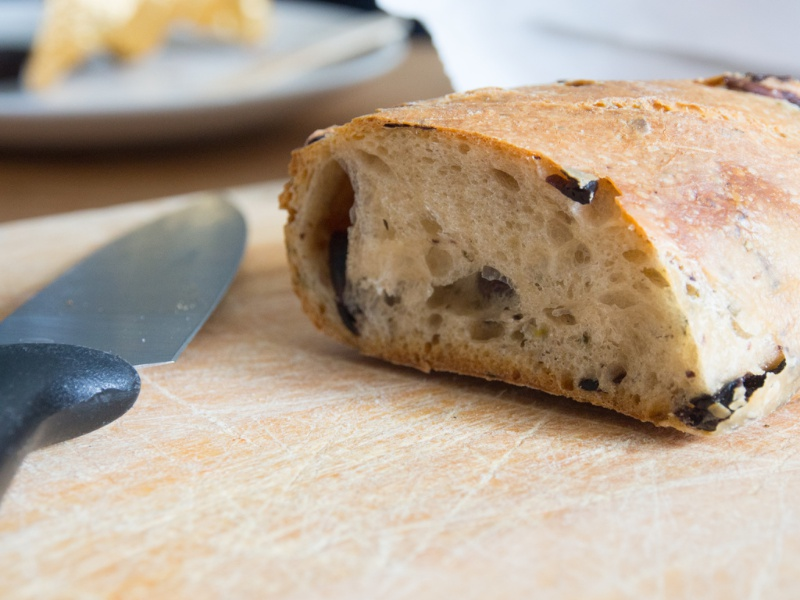knife: (1, 194, 250, 491)
